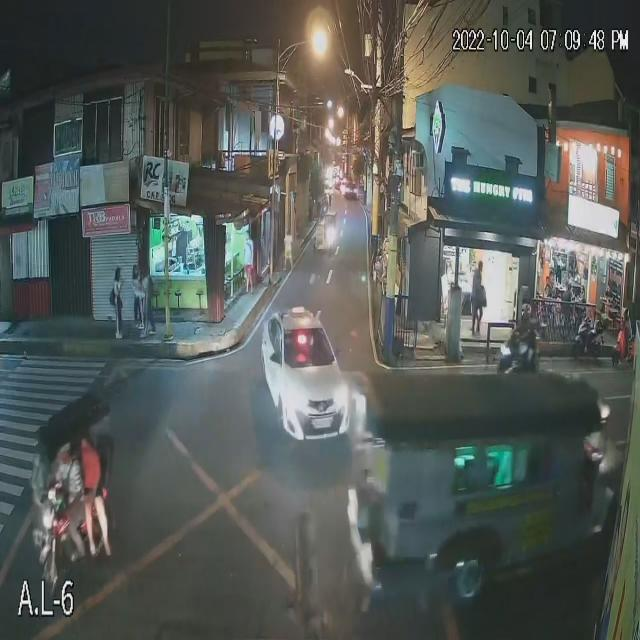0 motorcycle: (491, 340, 545, 378), (615, 323, 640, 371), (576, 317, 602, 360)
1 rider: (516, 320, 537, 357)
2 helmet: (520, 307, 533, 321)
